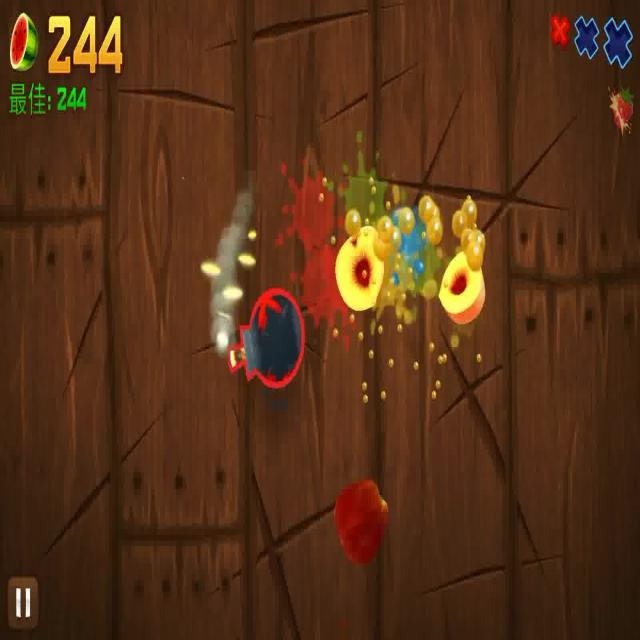bomb: (214, 285, 306, 393)
fruit: (333, 225, 390, 315), (330, 477, 388, 563), (437, 243, 486, 322)
